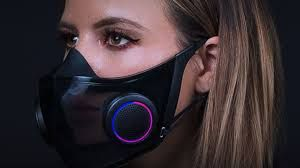with-mask: (25, 6, 223, 168)
